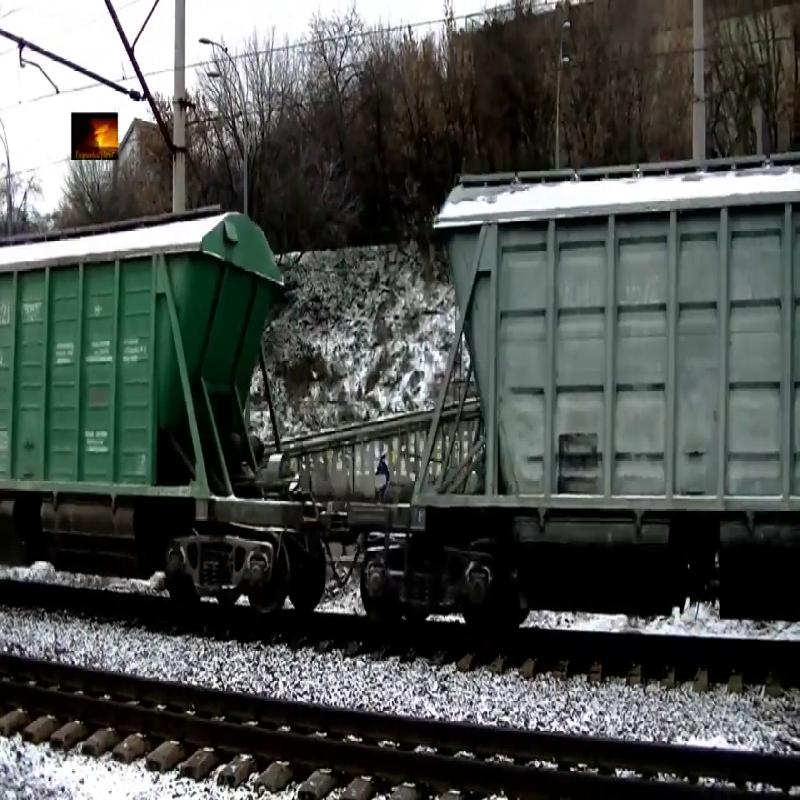train: (400, 142, 800, 567), (2, 195, 282, 559)
